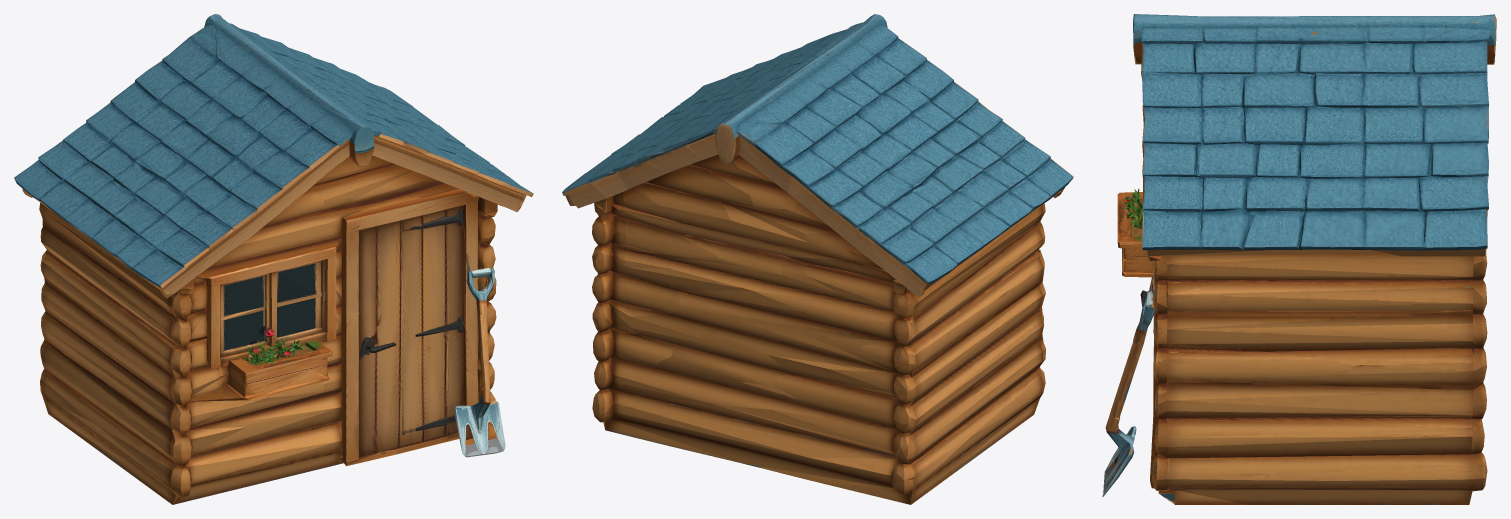
The model's file is potting_shed.glb.
The picture shows the model from 3 angles, left to right: view 1: azimuth 30°, elevation 25°; view 2: azimuth 150°, elevation 25°; view 3: azimuth 270°, elevation 25°; orthographic projection. The views are drawn at different scales.
Size of the model in its own units: 1.9 by 1.68 by 1.46.
1 material, 1 textured.
